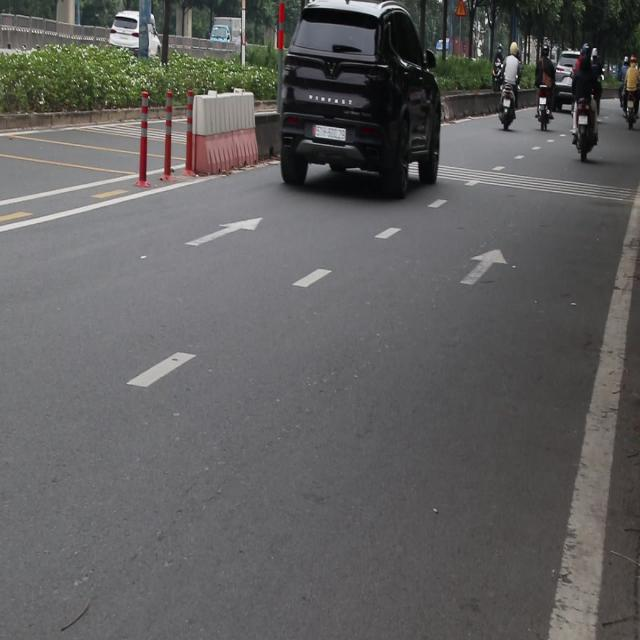car: (276, 1, 444, 198), (109, 10, 142, 50), (558, 48, 582, 72), (211, 23, 234, 41)
motorbike: (576, 90, 593, 174), (496, 85, 518, 132), (534, 82, 552, 133), (621, 85, 638, 129), (489, 55, 504, 94), (616, 62, 626, 116)
